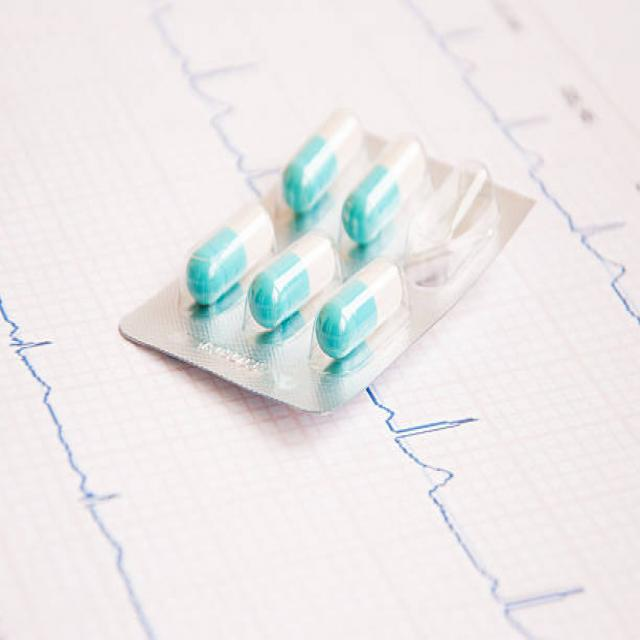Empty: (376, 141, 516, 298)
Pill: (221, 209, 358, 362), (299, 232, 429, 389), (165, 182, 296, 326), (264, 87, 387, 223), (323, 117, 441, 257)
